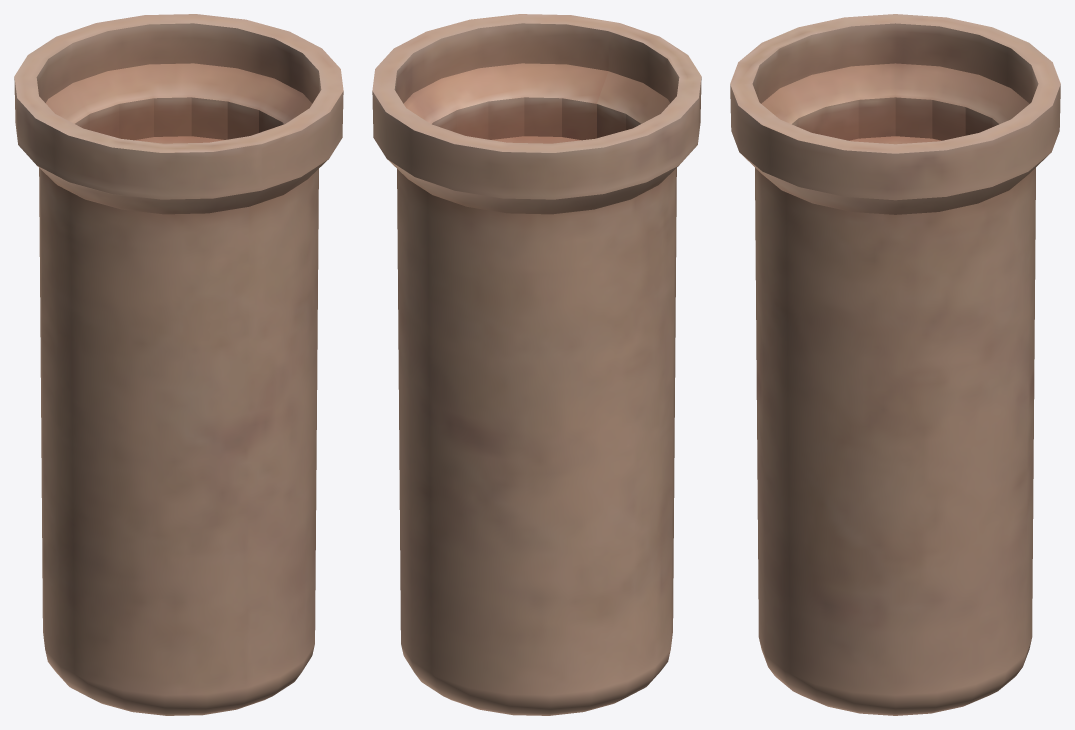
File: SM_FlowerPot_05.fbx
3 views of the same model, side by side, from view 1: azimuth 30°, elevation 25°; view 2: azimuth 150°, elevation 25°; view 3: azimuth 270°, elevation 25° (orthographic).
Visible parts, largest first — view 1: SM_FlowerPot_05_LOD0; view 2: SM_FlowerPot_05_LOD0; view 3: SM_FlowerPot_05_LOD0.
Boxes of the visible parts, <box> form: SM_FlowerPot_05_LOD0: <box>14,14,343,715</box>; SM_FlowerPot_05_LOD0: <box>372,14,701,715</box>; SM_FlowerPot_05_LOD0: <box>730,14,1060,715</box>.
Bounding box in the file's own units: 17.68 × 17.68 × 34.6.
1 material, 1 textured.
